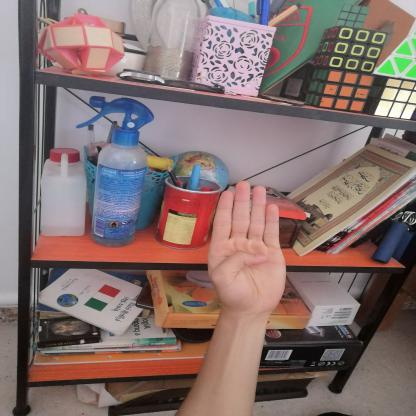KAAF: (198, 172, 292, 323)
